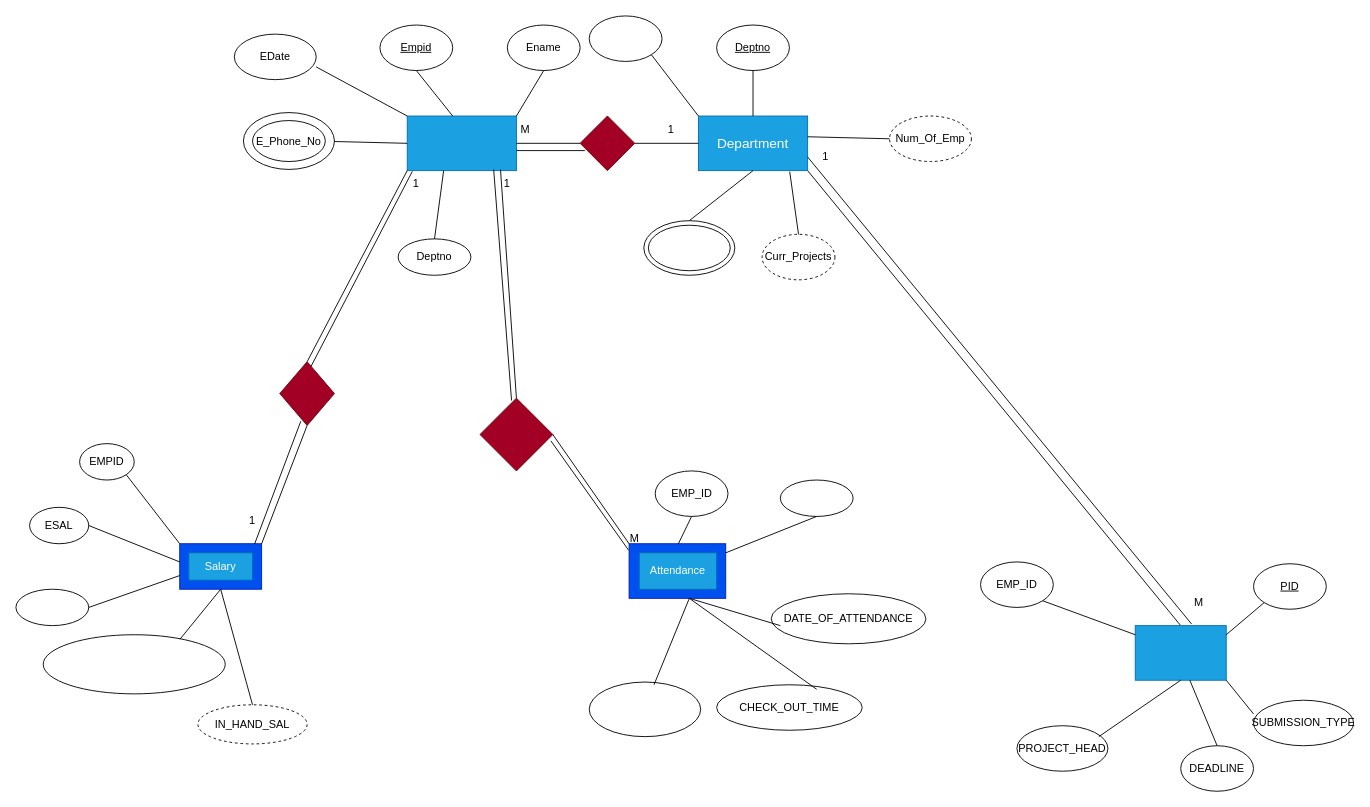
Image size: 1370x807. Some labels were removed from this diagram. The centre of each missing label's shape, as x and y in pixels:
"ANNUAL_INCREMENT_PERCENT" goes at [133,664].
"ATTENDED" goes at [816,497].
"CHECK_IN_TIME" goes at [644,709].
"COMMISSION" goes at [52,607].
"Dept_name" goes at [625,38].
"Employee" goes at [461,143].
"HAS" goes at [306,393].
"MARKS" goes at [516,434].
"Positions" goes at [688,247].
"PROJECTS" goes at [1180,652].
"Works in" goes at [607,143].
